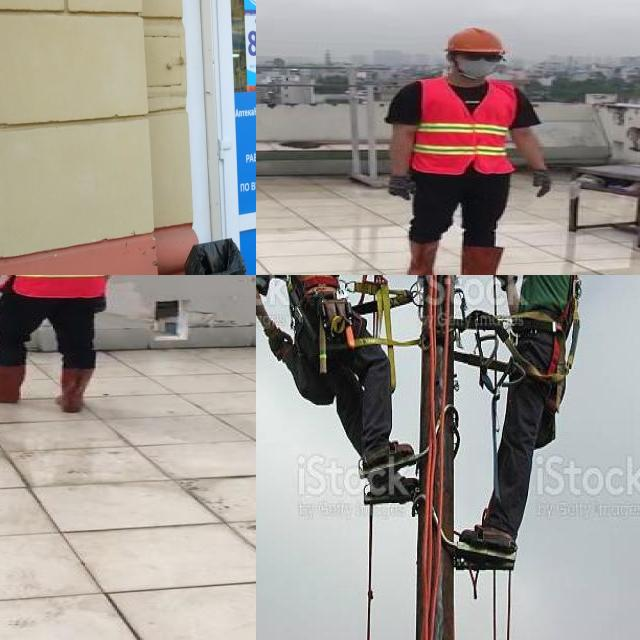Harness: (352, 275, 420, 390), (547, 275, 582, 384), (285, 275, 307, 330)
boots: (458, 247, 526, 275), (55, 369, 94, 412), (405, 236, 439, 275), (0, 358, 26, 404)
face_mask: (452, 51, 506, 78)
glasses: (457, 50, 505, 64)
hand_glove: (384, 173, 416, 197), (532, 168, 551, 198), (96, 296, 108, 316)
head_helmet: (441, 26, 508, 54)
person: (378, 21, 556, 275), (0, 275, 124, 412)
vest: (414, 76, 518, 175), (13, 275, 113, 295)
